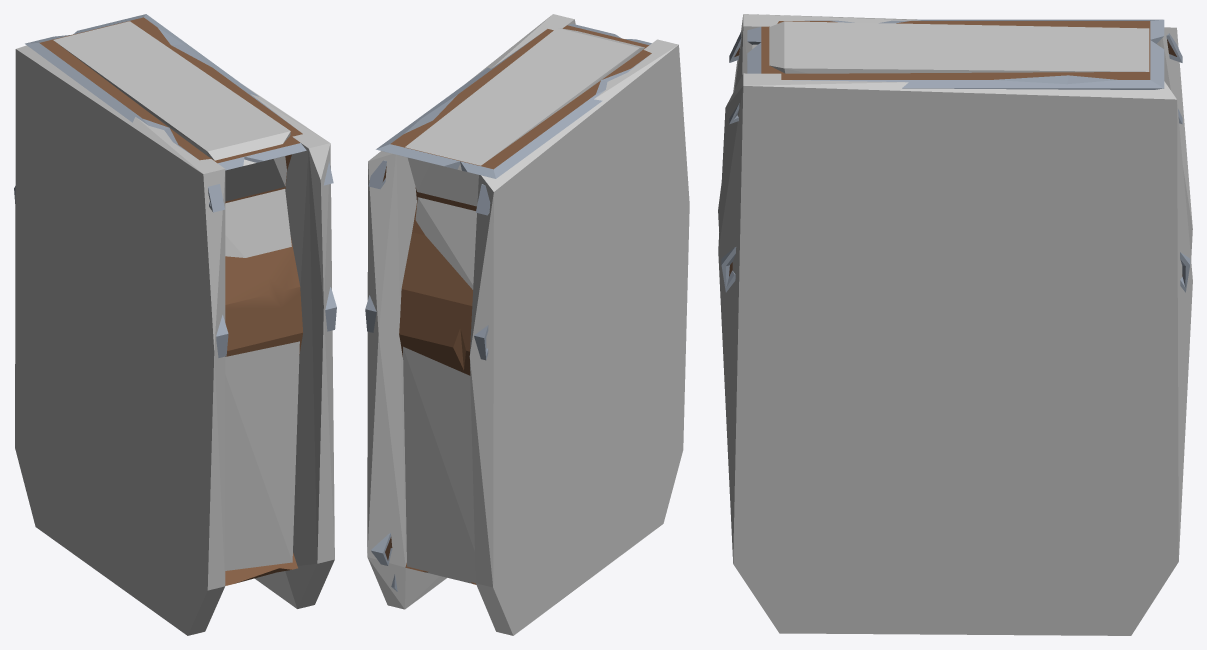
The model's file is SM_Prop_Cupboard_01.fbx.
3 views of the same model, side by side, from view 1: azimuth 30°, elevation 25°; view 2: azimuth 150°, elevation 25°; view 3: azimuth 270°, elevation 25° (orthographic). The views are drawn at different scales.
Parts seen in each view (by area): view 1: SM_Prop_Cupboard_01_ConvexHulls, SM_Prop_Cupboard_01; view 2: SM_Prop_Cupboard_01_ConvexHulls, SM_Prop_Cupboard_01; view 3: SM_Prop_Cupboard_01_ConvexHulls, SM_Prop_Cupboard_01.
Boxes of the visible parts, <box> form: SM_Prop_Cupboard_01_ConvexHulls: <box>15,21,334,635</box>; SM_Prop_Cupboard_01: <box>14,14,336,585</box>; SM_Prop_Cupboard_01_ConvexHulls: <box>367,14,689,635</box>; SM_Prop_Cupboard_01: <box>365,24,651,591</box>; SM_Prop_Cupboard_01_ConvexHulls: <box>718,14,1192,635</box>; SM_Prop_Cupboard_01: <box>721,19,1190,292</box>.
Size of the model in its own units: 79.71 by 222 by 287.
Materials: 2 (1 with a texture image).
